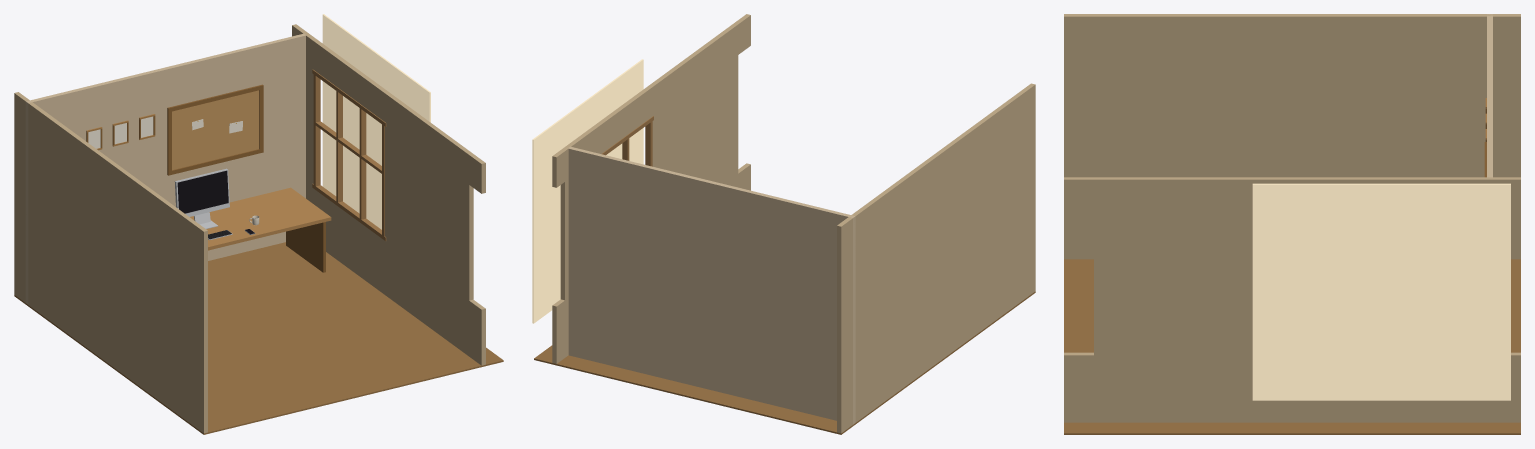
File: oda3d_room.glb
3 renders of one model, left to right at view 1: azimuth 30°, elevation 25°; view 2: azimuth 150°, elevation 25°; view 3: azimuth 270°, elevation 25°, orthographic. The views are drawn at different scales.
Parts seen in each view (by area): view 1: wall_left, floor, wall_back, rw_front, rw_below, sky, rw_above, cork_panel, desk_top, screen, desk_panel_r, rw_back (+8 smaller); view 2: wall_back, wall_left, sky, rw_front, rw_above, floor, rw_below, rw_back; view 3: wall_left, sky, rw_front, rw_below, floor, rw_above, wall_back.
Boxes of the visible parts, x1=… form: wall_left: x1=14, y1=92, x2=207, y2=433; floor: x1=14, y1=242, x2=503, y2=434; wall_back: x1=25, y1=33, x2=305, y2=304; rw_front: x1=385, y1=124, x2=473, y2=300; rw_below: x1=306, y1=181, x2=485, y2=365; sky: x1=322, y1=14, x2=430, y2=229; rw_above: x1=292, y1=24, x2=485, y2=193; cork_panel: x1=172, y1=90, x2=259, y2=170; desk_top: x1=190, y1=187, x2=331, y2=250; screen: x1=177, y1=170, x2=228, y2=213; desk_panel_r: x1=286, y1=222, x2=325, y2=272; rw_back: x1=306, y1=65, x2=313, y2=185; wall_back: x1=568, y1=146, x2=855, y2=424; wall_left: x1=837, y1=83, x2=1035, y2=433; sky: x1=532, y1=59, x2=643, y2=323; rw_front: x1=652, y1=55, x2=738, y2=183; rw_above: x1=552, y1=14, x2=750, y2=187; floor: x1=534, y1=291, x2=1035, y2=434; rw_below: x1=552, y1=163, x2=750, y2=363; rw_back: x1=560, y1=179, x2=568, y2=300; wall_left: x1=1064, y1=14, x2=1520, y2=259; sky: x1=1252, y1=183, x2=1510, y2=400; rw_front: x1=1094, y1=215, x2=1252, y2=355; rw_below: x1=1064, y1=352, x2=1520, y2=422; floor: x1=1064, y1=259, x2=1520, y2=434; rw_above: x1=1064, y1=177, x2=1520, y2=215; wall_back: x1=1487, y1=14, x2=1492, y2=177.
Bounding box in the file's own units: 4.28 × 2.82 × 4.6.
